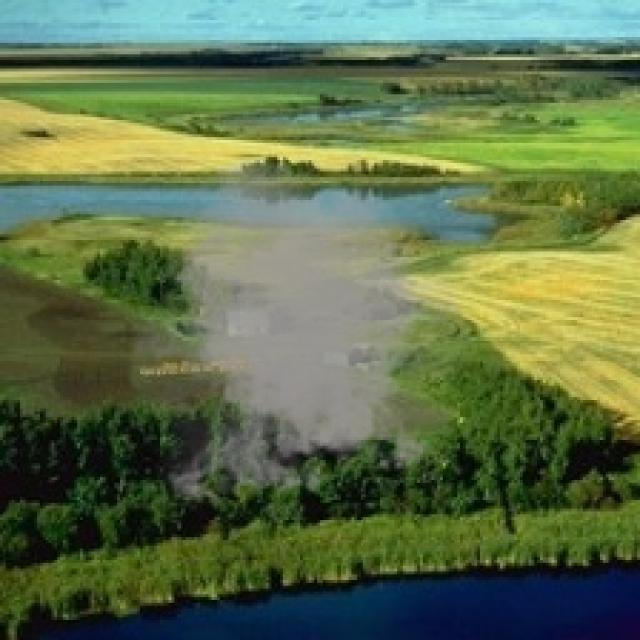smoke: (114, 152, 483, 514)
